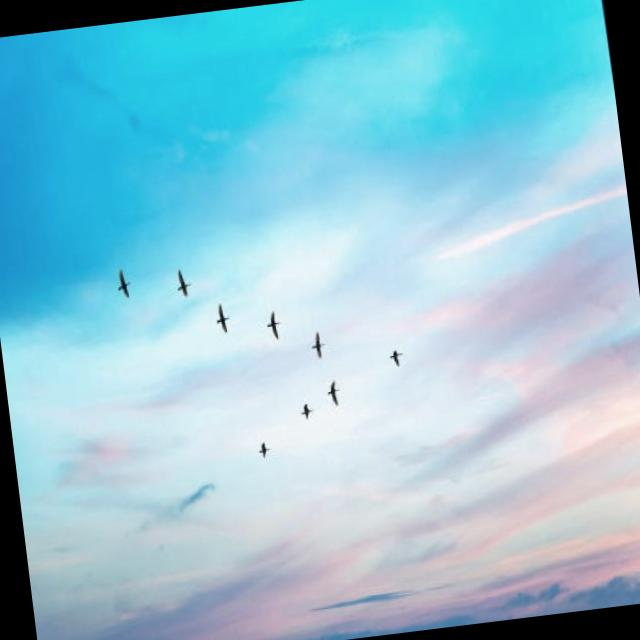bird: (109, 259, 136, 301), (307, 324, 334, 364), (251, 432, 278, 468), (295, 394, 318, 436), (266, 304, 288, 344), (387, 341, 412, 376), (323, 374, 344, 414), (173, 264, 196, 300), (216, 302, 233, 338)
